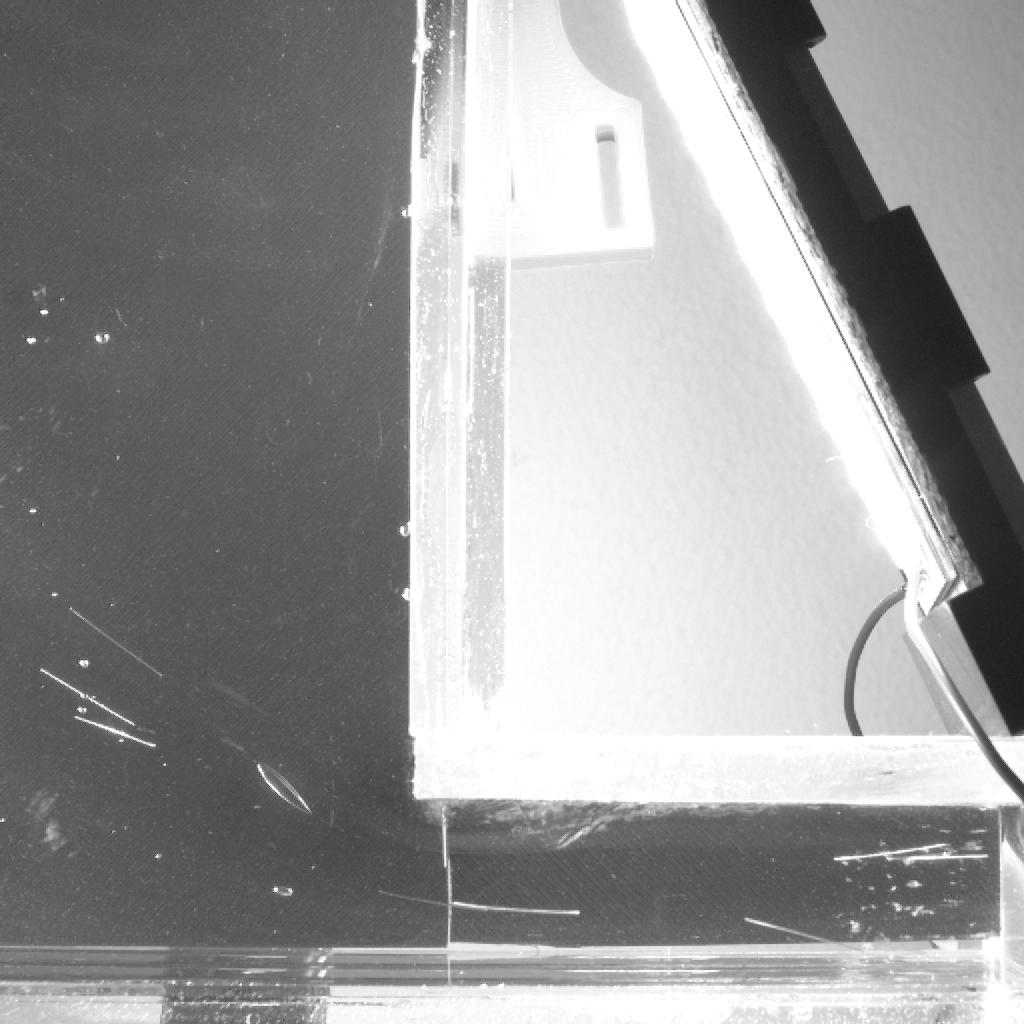Fiber: (69, 604, 168, 680), (40, 667, 136, 732), (742, 915, 872, 957), (372, 885, 490, 914), (451, 892, 581, 918), (72, 714, 154, 751), (837, 841, 954, 862), (888, 852, 988, 862)
